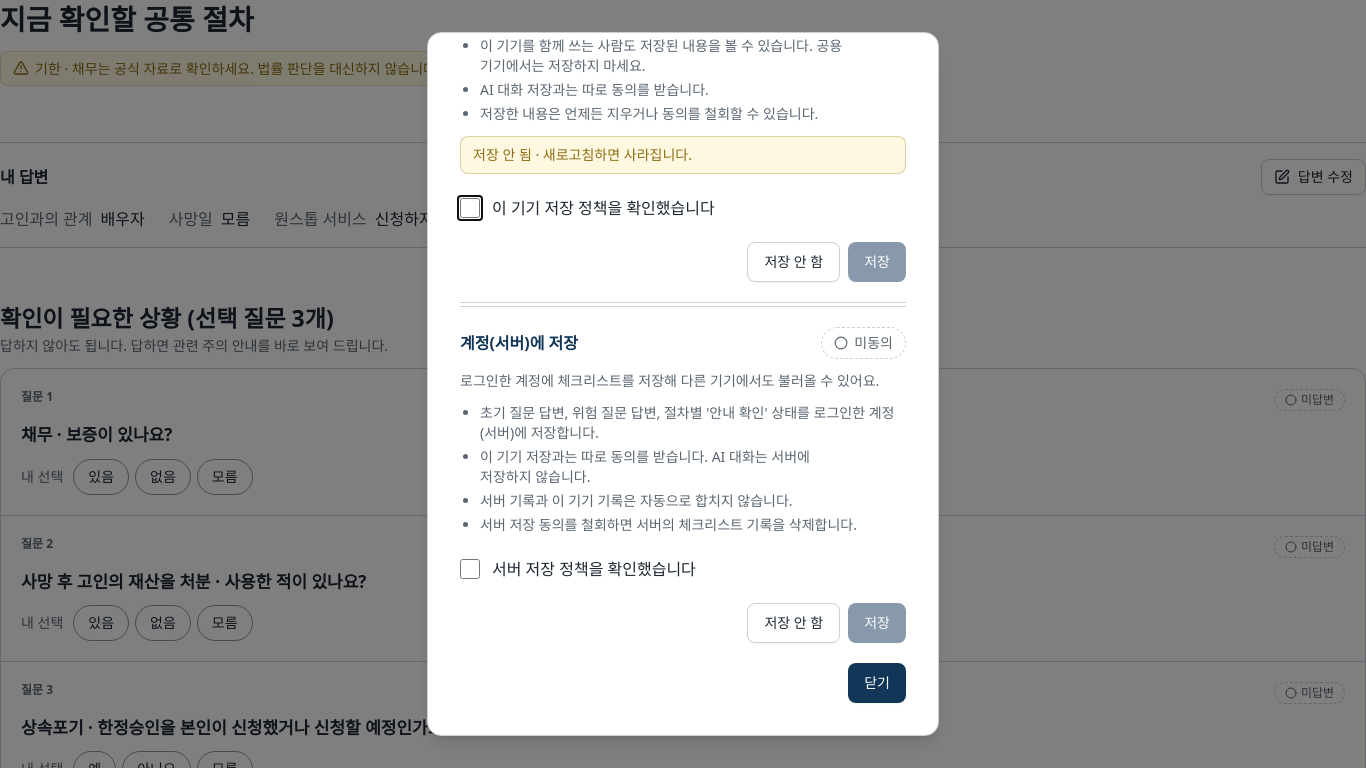
Scenario: 이 기기 저장 동의와 서버 저장 동의의 독립 (4-6-1) › 두 동의가 따로 보이고, [서버에 저장]을 눌러도 이 기기 저장 동의는 그대로다
The width and height of the screenshot is (1366, 768).
(page scrolled)
Expected: the text "저장 안 됨 · 새로고침하면 사라집니다." is shown, left=460, top=136, right=906, bottom=174
Step 1. Click the checkbox labelled "서버 저장 정책을 확인했습니다" → [470, 568], box left=460, top=558, right=480, bottom=578
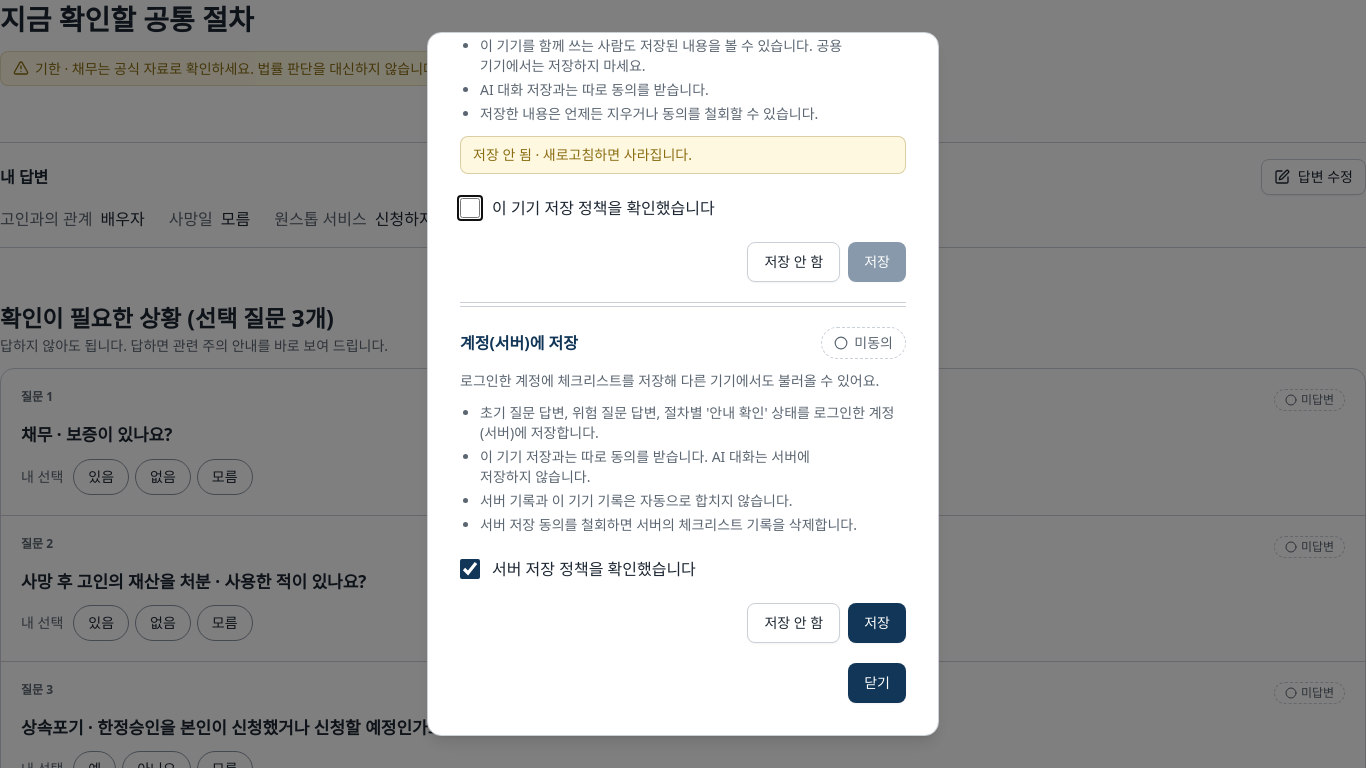
Step 2. Click the button "저장" below "서버 저장 정책을 확인했습니다" → [877, 622], box left=848, top=602, right=906, bottom=642
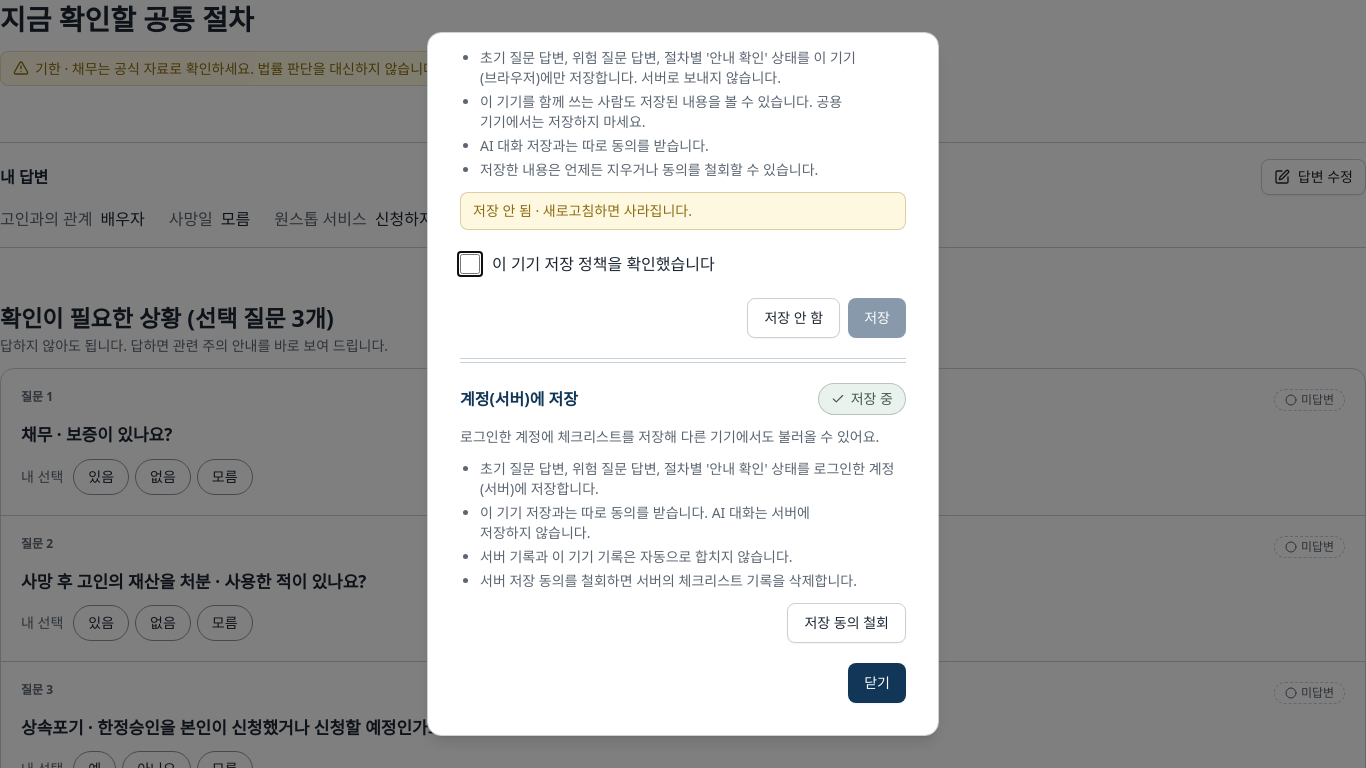
Expected: the number of dialogs is 1, left=427, top=32, right=939, bottom=736
Expected: the text "저장 중" is shown, left=818, top=382, right=906, bottom=414
